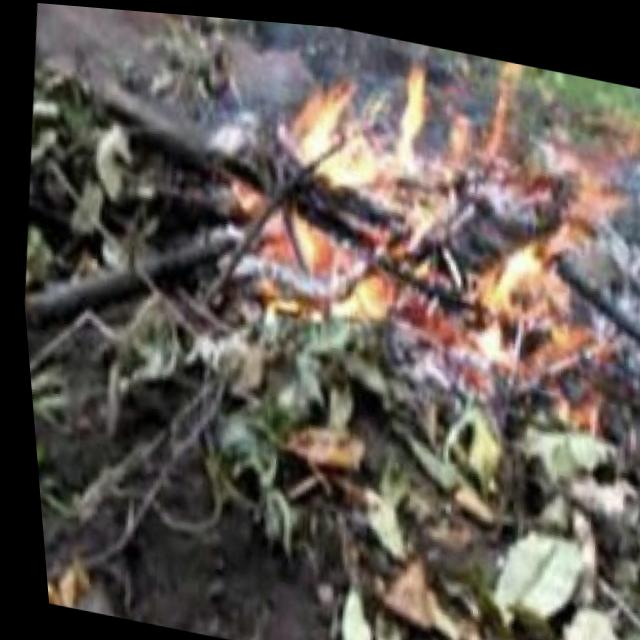Fire: (218, 14, 640, 387)
